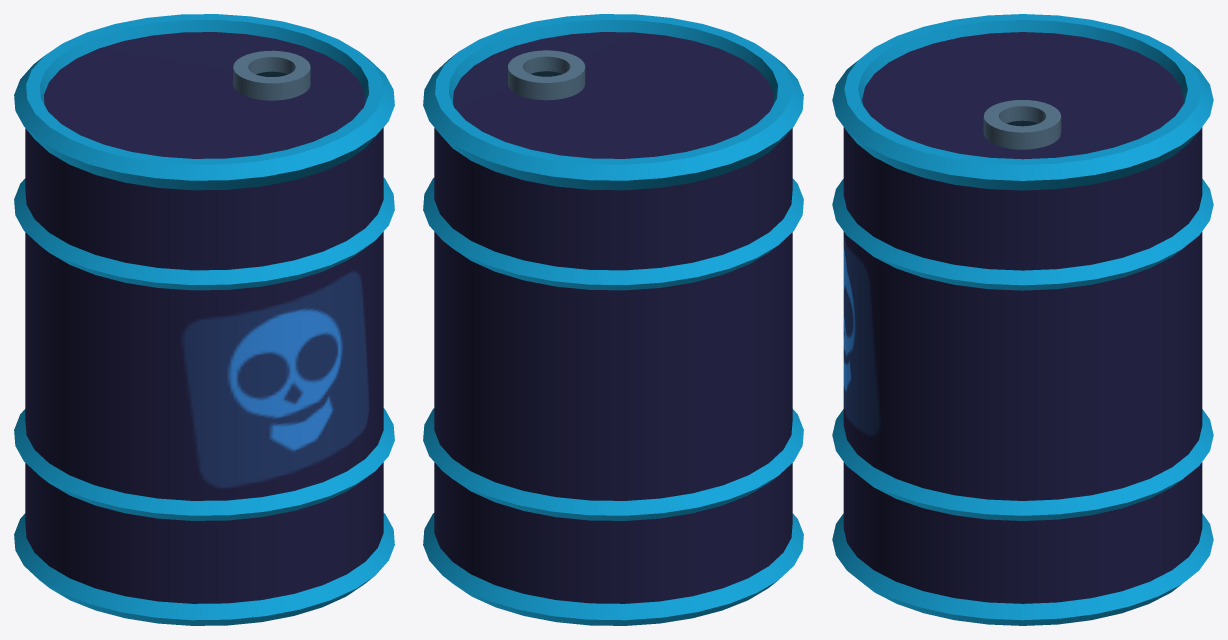
Rendered from Barrel.fbx.
3 renders of one model, left to right at view 1: azimuth 30°, elevation 25°; view 2: azimuth 150°, elevation 25°; view 3: azimuth 270°, elevation 25°, orthographic.
Parts seen in each view (by area): view 1: Barrel; view 2: Barrel; view 3: Barrel.
Boxes of the visible parts, left/top/right/bottom form: Barrel: left=14, top=14, right=394, bottom=625; Barrel: left=423, top=14, right=803, bottom=625; Barrel: left=832, top=14, right=1213, bottom=625.
Bounding box in the file's own units: 300 × 405 × 300.
